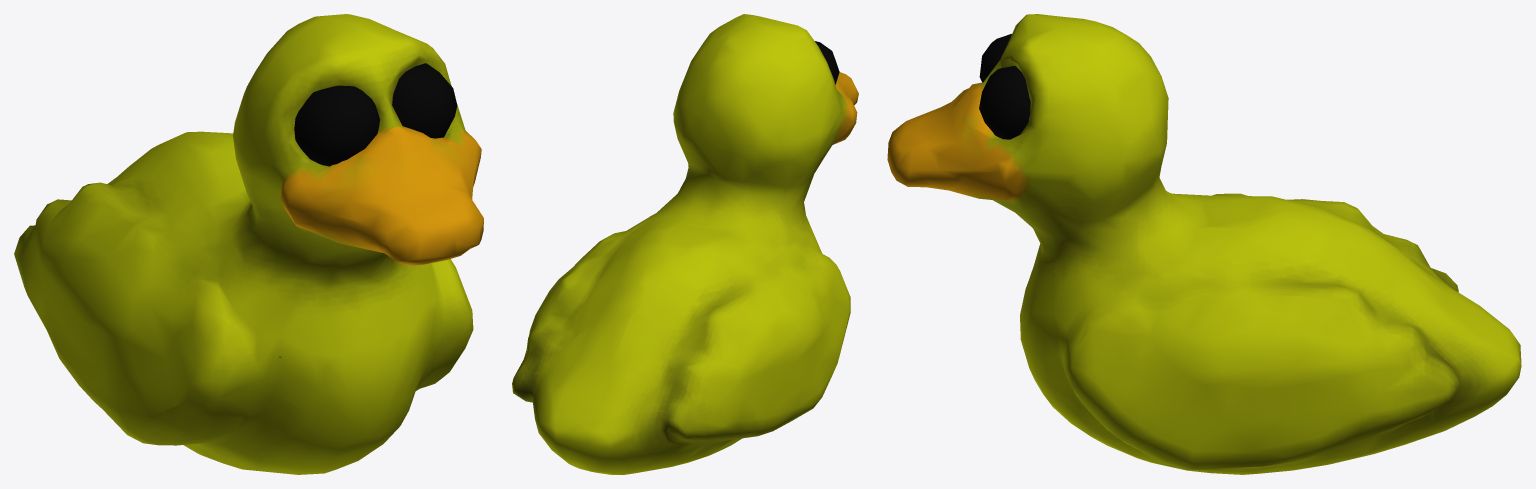
The model's file is Duck.fbx.
3 views of the same model, side by side, from view 1: azimuth 30°, elevation 25°; view 2: azimuth 150°, elevation 25°; view 3: azimuth 270°, elevation 25° (orthographic). The views are drawn at different scales.
Parts seen in each view (by area): view 1: Duck_V1; view 2: Duck_V1; view 3: Duck_V1.
Part boxes in pixels (x1,y1,x2,y2): Duck_V1: (14, 14, 483, 474); Duck_V1: (512, 14, 858, 474); Duck_V1: (887, 14, 1521, 474).
Size of the model in its own units: 10.27 by 14.97 by 19.75.
